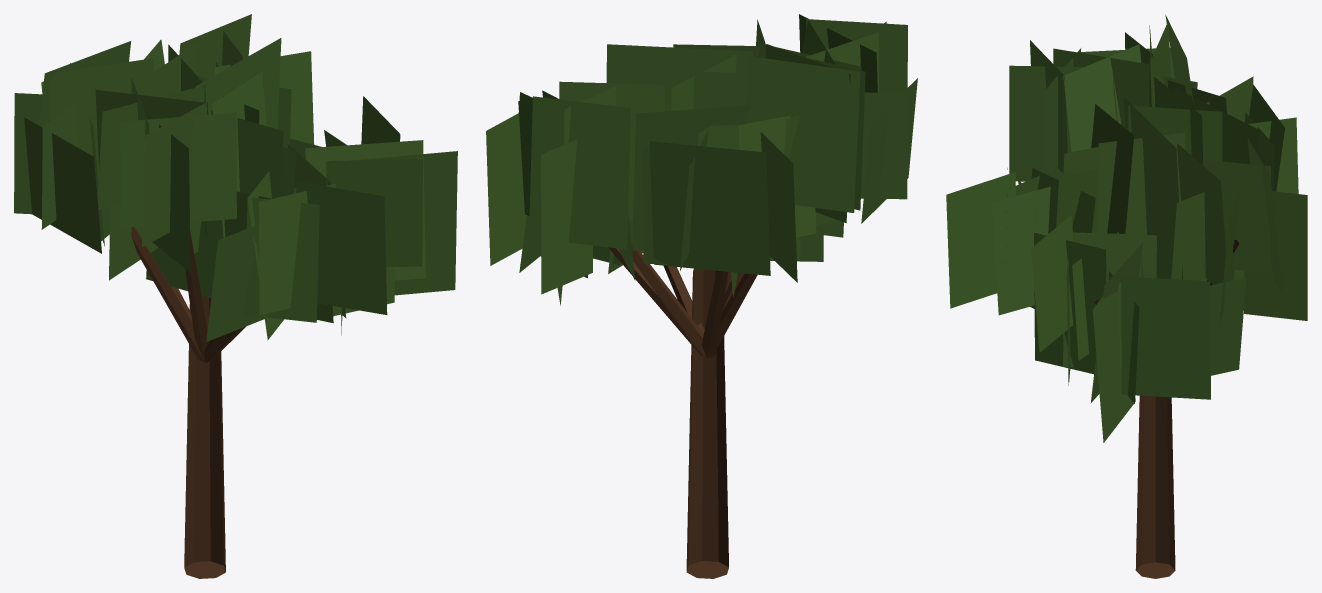
The model's file is midcity_olive_tree.obj.
The picture shows the model from 3 angles, left to right: view 1: azimuth 30°, elevation 25°; view 2: azimuth 150°, elevation 25°; view 3: azimuth 270°, elevation 25°; orthographic projection. The views are drawn at different scales.
Visible parts, largest first — view 1: midcity_olive_tree; view 2: midcity_olive_tree; view 3: midcity_olive_tree.
Boxes of the visible parts, box(x1,y1,x2,y2) form: midcity_olive_tree: box(14, 14, 457, 578); midcity_olive_tree: box(486, 14, 917, 578); midcity_olive_tree: box(946, 14, 1307, 578).
Bounding box in the file's own units: 2.36 × 2.98 × 2.
